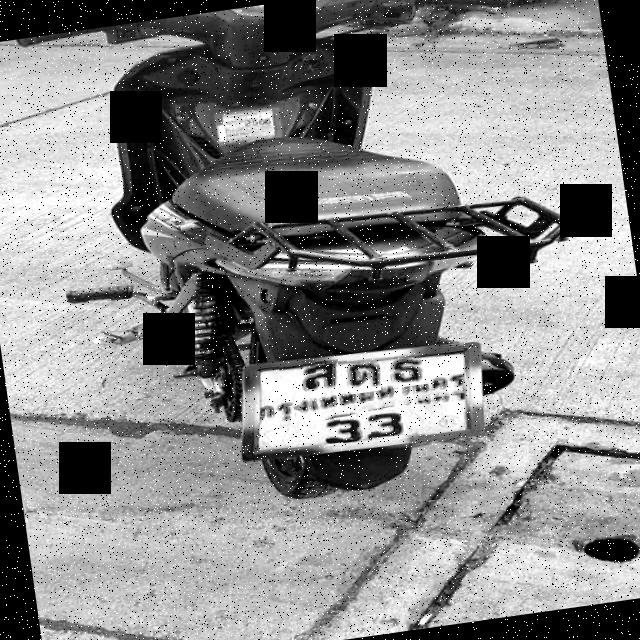letters: (303, 359, 342, 396), (328, 412, 366, 448), (344, 358, 382, 394), (390, 356, 430, 388), (368, 412, 405, 442)
license-plate: (257, 353, 468, 453)
province: (258, 372, 465, 428)
